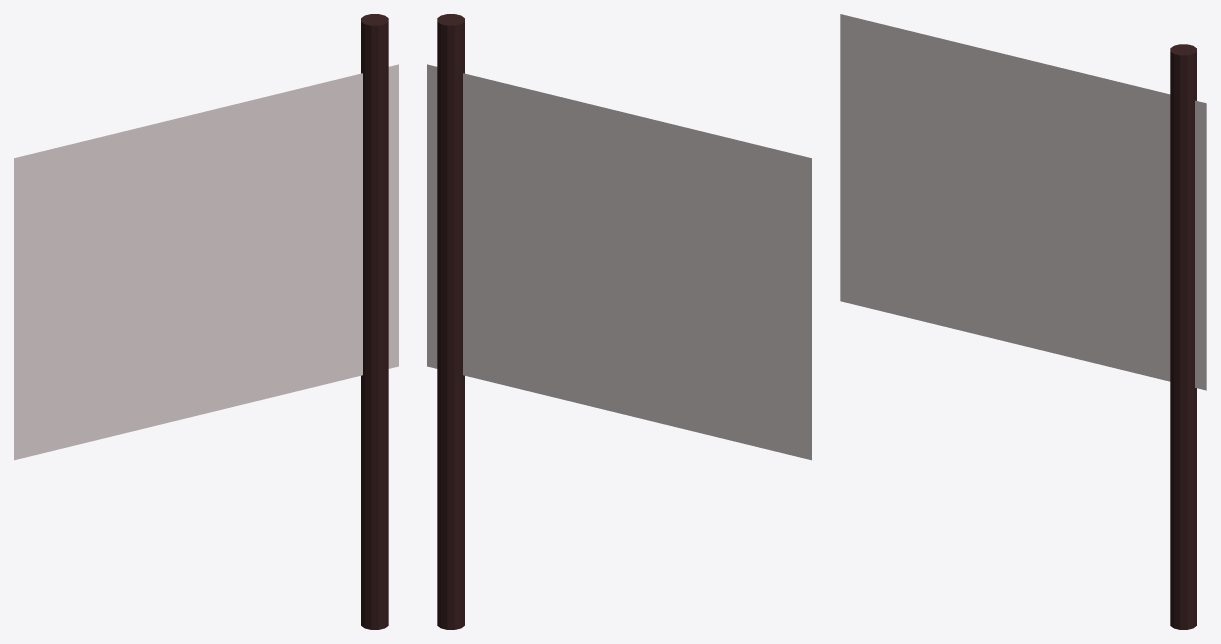
File: checkpoint.gltf
3 views of the same model, side by side, from view 1: azimuth 30°, elevation 25°; view 2: azimuth 150°, elevation 25°; view 3: azimuth 330°, elevation 25° (orthographic). The views are drawn at different scales.
Parts seen in each view (by area): view 1: plane, cylinder; view 2: plane, cylinder; view 3: plane, cylinder.
Part boxes in pixels (box(x1,y1,x2,y2)): plane: box(14, 64, 398, 460); cylinder: box(361, 14, 388, 629); plane: box(427, 64, 811, 460); cylinder: box(437, 14, 464, 629); plane: box(840, 14, 1206, 390); cylinder: box(1170, 44, 1196, 629).
Size of the model in its own units: 1 by 1.5 by 0.0625.
Materials: 1 (1 with a texture image).
